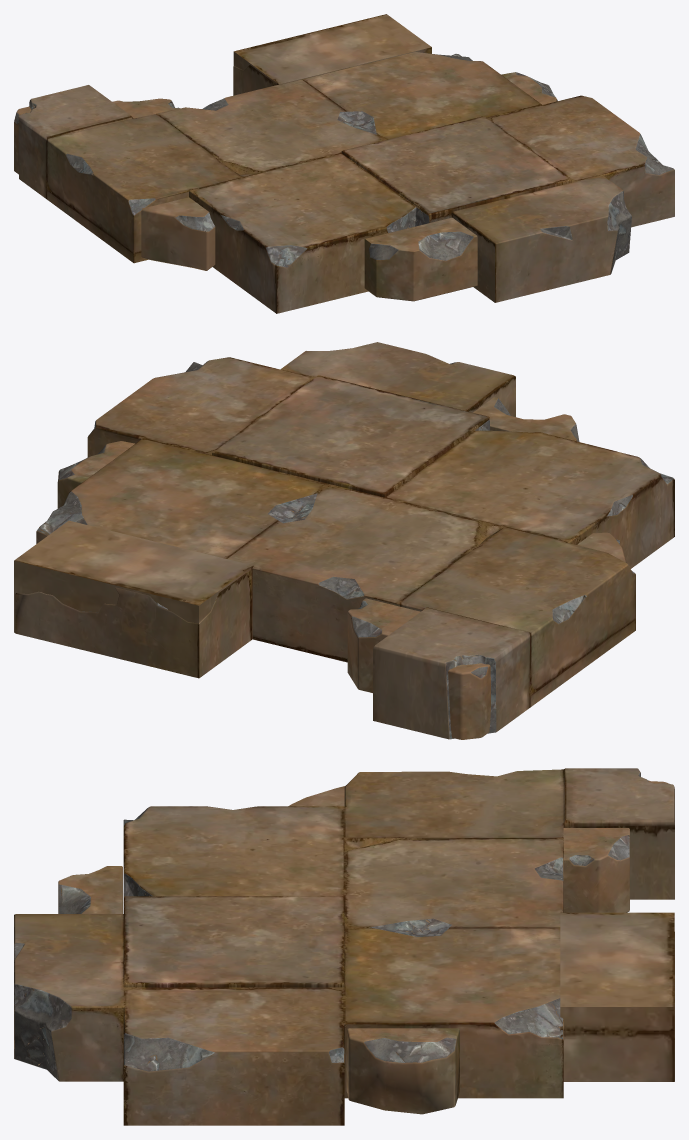
3 renders of one model, top to bottom at view 1: azimuth 30°, elevation 25°; view 2: azimuth 150°, elevation 25°; view 3: azimuth 270°, elevation 25°, orthographic. The views are drawn at different scales.
Visible parts, largest first — view 1: SM_Vault_4m_Floor_Dmg_01_V2_LOD0; view 2: SM_Vault_4m_Floor_Dmg_01_V2_LOD0; view 3: SM_Vault_4m_Floor_Dmg_01_V2_LOD0.
Part boxes in pixels (bbox=[...]): SM_Vault_4m_Floor_Dmg_01_V2_LOD0: bbox=[14, 14, 674, 313]; SM_Vault_4m_Floor_Dmg_01_V2_LOD0: bbox=[14, 342, 674, 739]; SM_Vault_4m_Floor_Dmg_01_V2_LOD0: bbox=[14, 768, 674, 1125].
Bounding box in the file's own units: 4 × 0.5256 × 4.
Materials: 2 (2 with a texture image).
